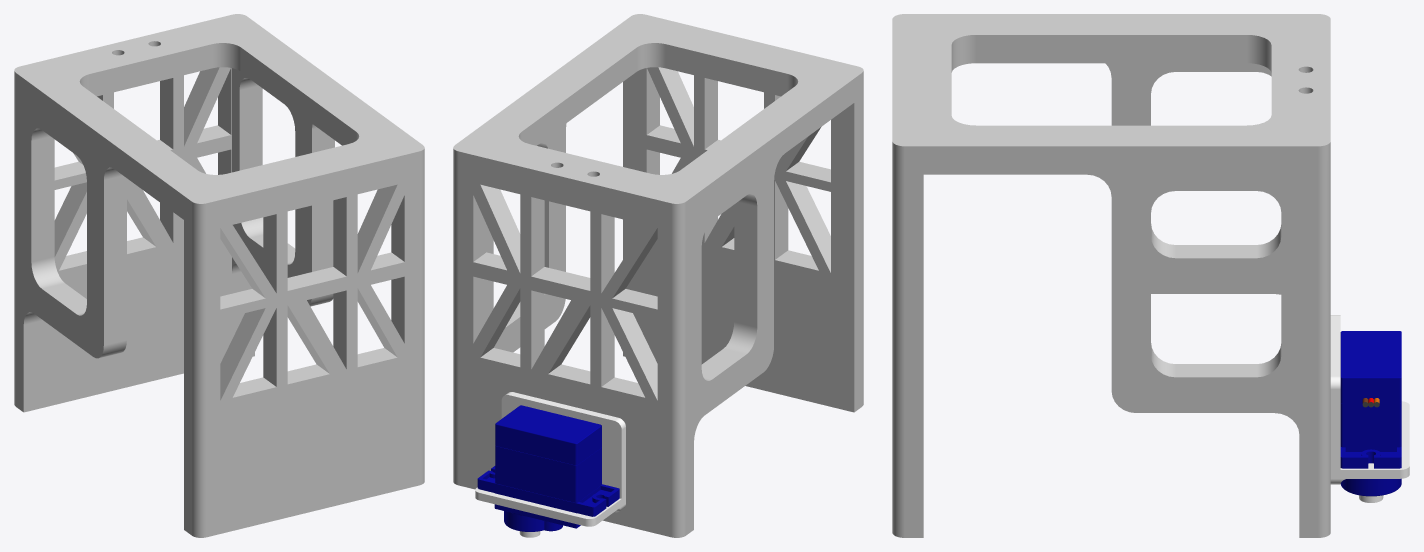
Rendered from module_holder.dae.
The picture shows the model from 3 angles, left to right: view 1: azimuth 30°, elevation 25°; view 2: azimuth 150°, elevation 25°; view 3: azimuth 270°, elevation 25°; orthographic projection. The views are drawn at different scales.
Parts seen in each view (by area): view 1: Body_1; view 2: Body_1, Body_2, _3DGeom-162, Body_4, _3DGeom-246; view 3: Body_1, _3DGeom-162, Body_2, Body_4, _3DGeom-246.
Boxes of the visible parts, left/top/right/bottom form: Body_1: left=14, top=14, right=424, bottom=537; Body_1: left=453, top=14, right=863, bottom=537; Body_2: left=475, top=392, right=625, bottom=526; _3DGeom-162: left=495, top=405, right=601, bottom=465; Body_4: left=495, top=446, right=601, bottom=502; _3DGeom-246: left=477, top=466, right=619, bottom=531; Body_1: left=892, top=14, right=1330, bottom=537; _3DGeom-162: left=1340, top=331, right=1401, bottom=403; Body_2: left=1330, top=315, right=1409, bottom=484; Body_4: left=1340, top=403, right=1401, bottom=447; _3DGeom-246: left=1340, top=447, right=1401, bottom=496.
Bounding box in the file's own units: 0.0635 × 0.1049 × 0.0912.
